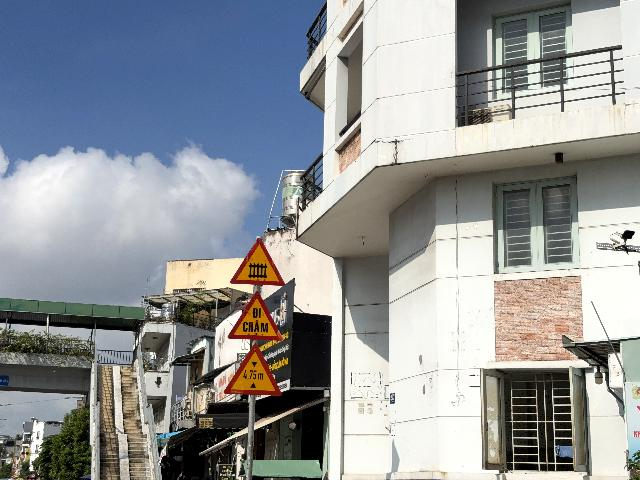chieu-cao-tinh-khong-thuc-te: (224, 343, 282, 396)
di-cham: (228, 290, 283, 340)
noi-giao-nhau-voi-duong-sat-co-rao-chan: (230, 238, 285, 286)
